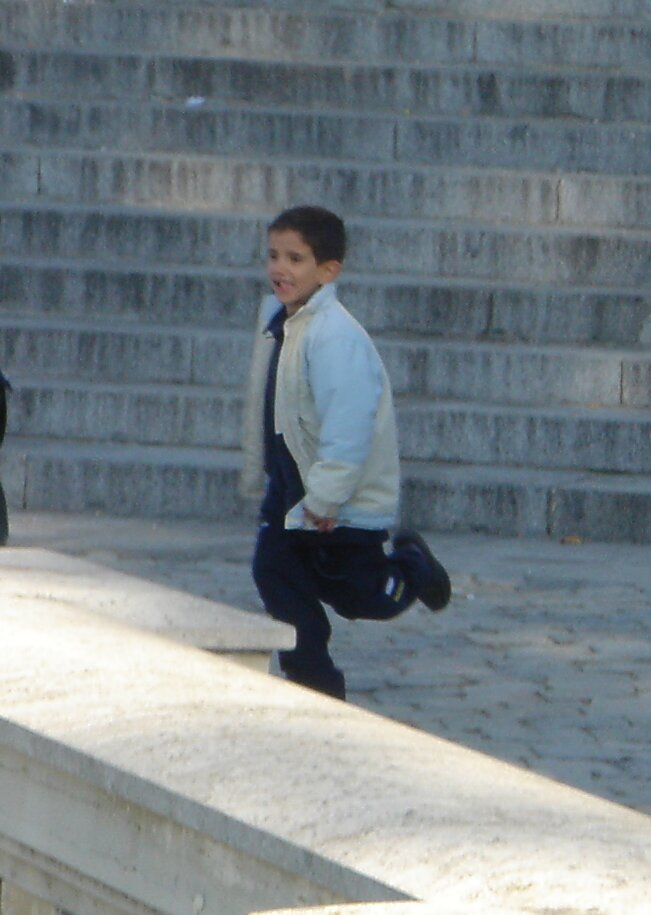person: (247, 203, 457, 686)
